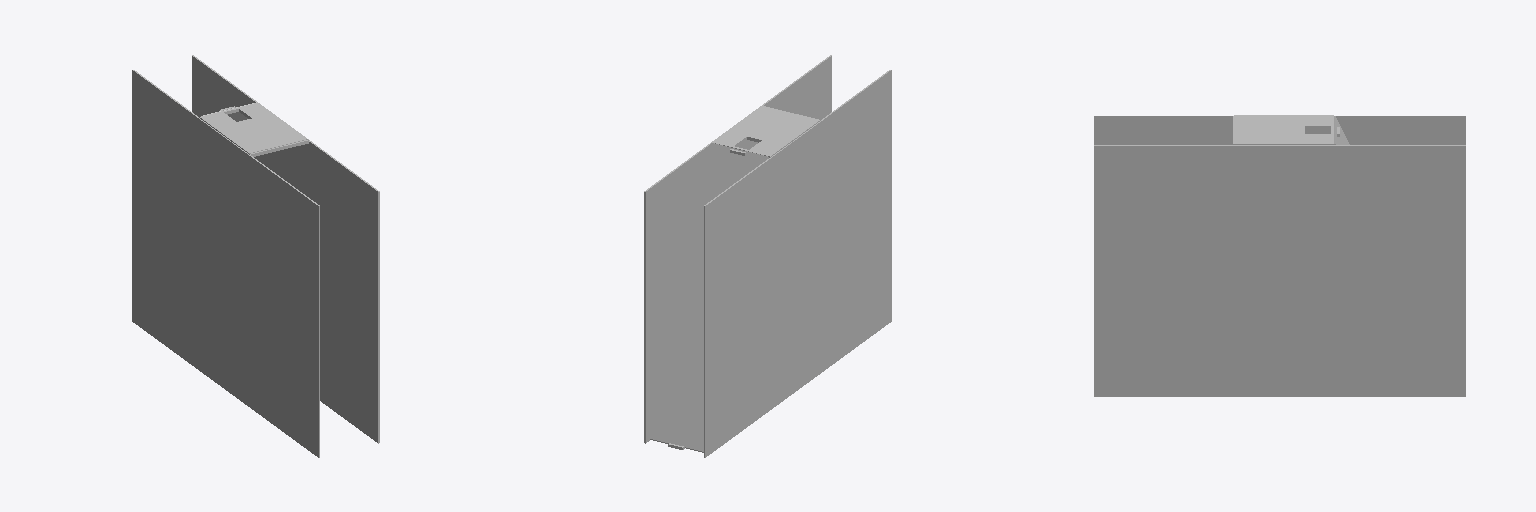
The model's file is room.obj.
3 renders of one model, left to right at view 1: azimuth 30°, elevation 25°; view 2: azimuth 150°, elevation 25°; view 3: azimuth 270°, elevation 25°, orthographic.
Visible parts, largest first — view 1: obj_2; view 2: obj_2, obj_0; view 3: obj_2.
Boxes of the visible parts, x1=… form: obj_2: x1=132, y1=55, x2=379, y2=457; obj_2: x1=644, y1=55, x2=891, y2=457; obj_0: x1=649, y1=143, x2=768, y2=451; obj_2: x1=1094, y1=115, x2=1465, y2=396.
Size of the model in its own units: 120 by 475 by 635.